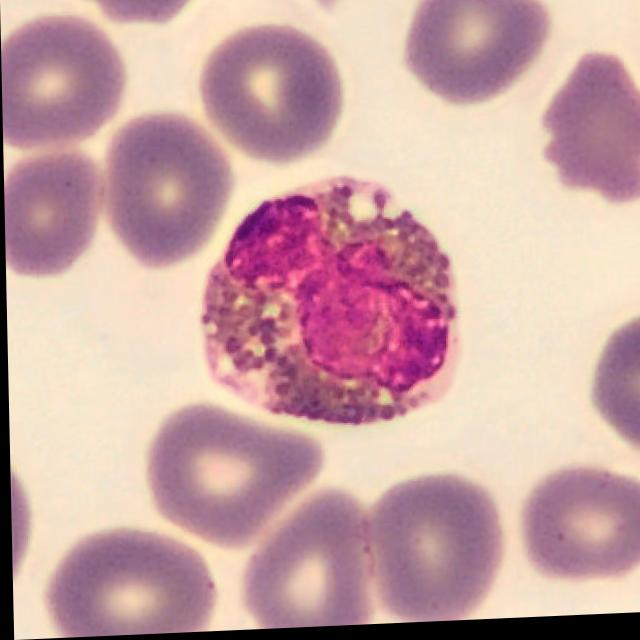Eosinofilo: (199, 177, 458, 428)
